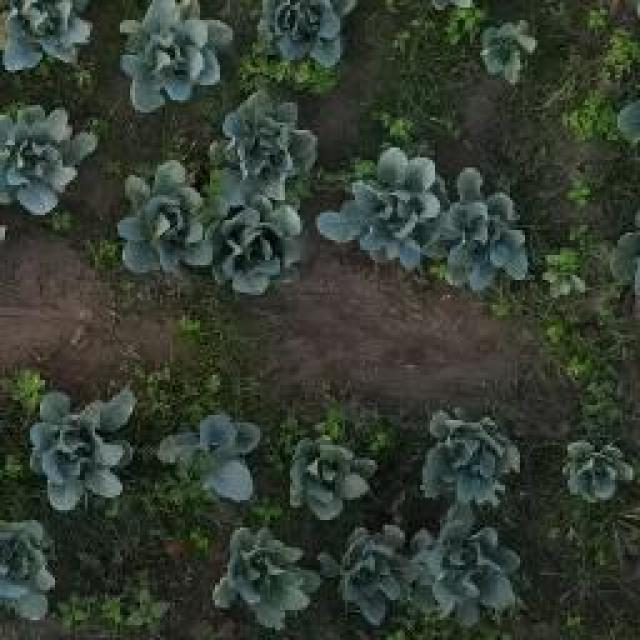cabbage: (25, 382, 139, 510), (325, 142, 435, 260), (412, 513, 526, 619), (209, 89, 318, 199), (444, 168, 535, 294), (113, 2, 226, 99), (212, 527, 318, 629), (204, 200, 307, 301), (417, 409, 526, 503), (0, 100, 92, 210), (118, 165, 203, 276), (169, 412, 263, 508), (282, 430, 388, 513), (328, 524, 411, 614), (252, 0, 351, 69), (0, 0, 100, 65), (0, 517, 61, 623), (562, 433, 632, 504), (476, 15, 541, 81)
